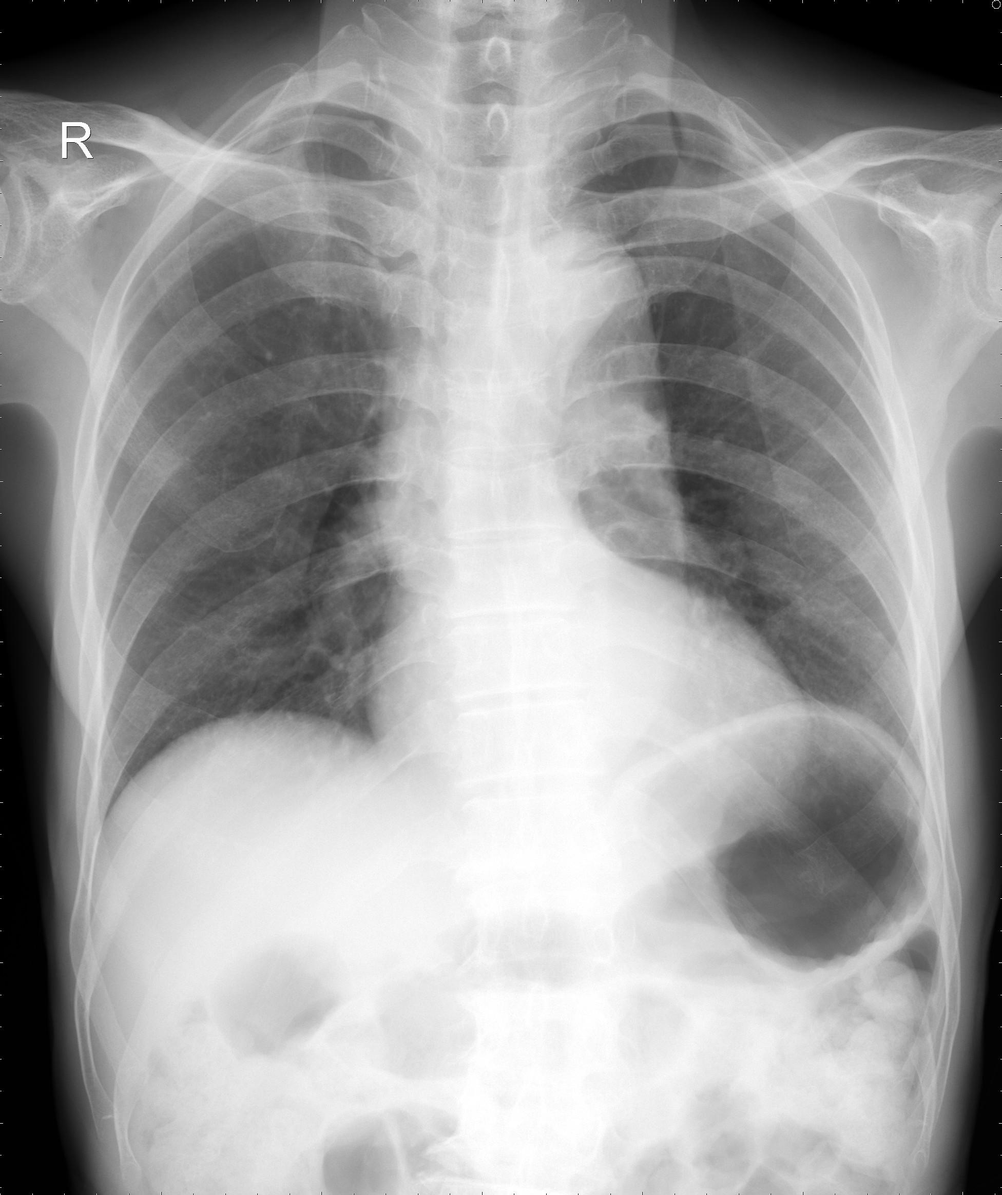Aortic enlargement: (507, 234, 682, 505)
